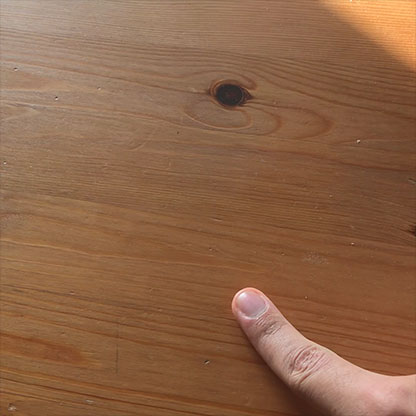fingertip: (219, 278, 278, 332)
